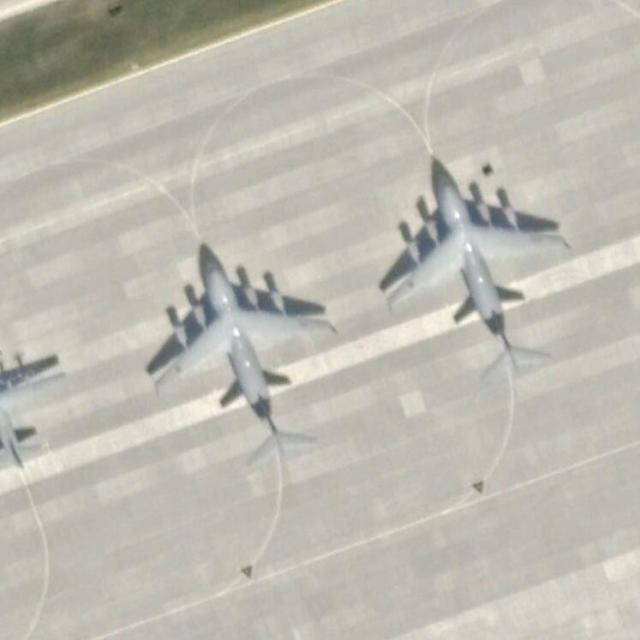fighter jet: (160, 246, 319, 431), (400, 166, 557, 339)
